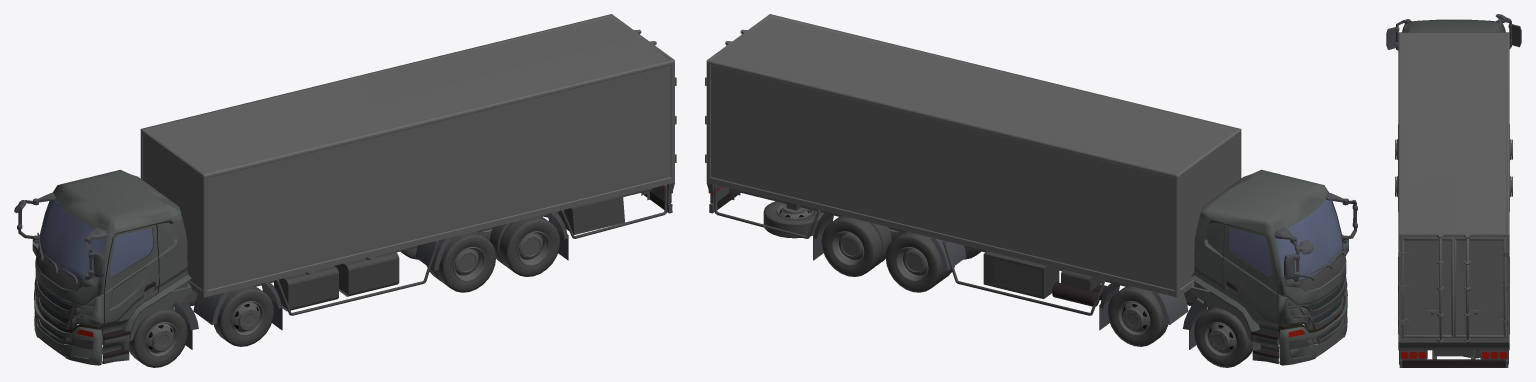
The model's file is truck_final_final2.obj.
3 renders of one model, left to right at view 1: azimuth 30°, elevation 25°; view 2: azimuth 150°, elevation 25°; view 3: azimuth 270°, elevation 25°, orthographic. The views are drawn at different scales.
Visible parts, largest first — view 1: Truck_Toolbox; view 2: Truck_Toolbox; view 3: Truck_Toolbox.
Part boxes in pixels (<box>): Truck_Toolbox: <box>14,14,676,367</box>; Truck_Toolbox: <box>705,14,1357,367</box>; Truck_Toolbox: <box>1386,14,1521,367</box>.
Size of the model in its own units: 9.07 by 2.6 by 1.99.
